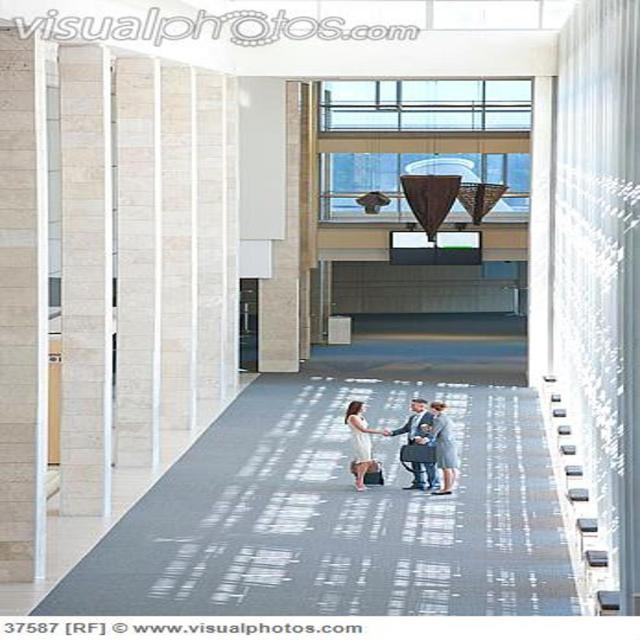nomask: (410, 402, 420, 411), (358, 404, 366, 412), (428, 405, 436, 412)
